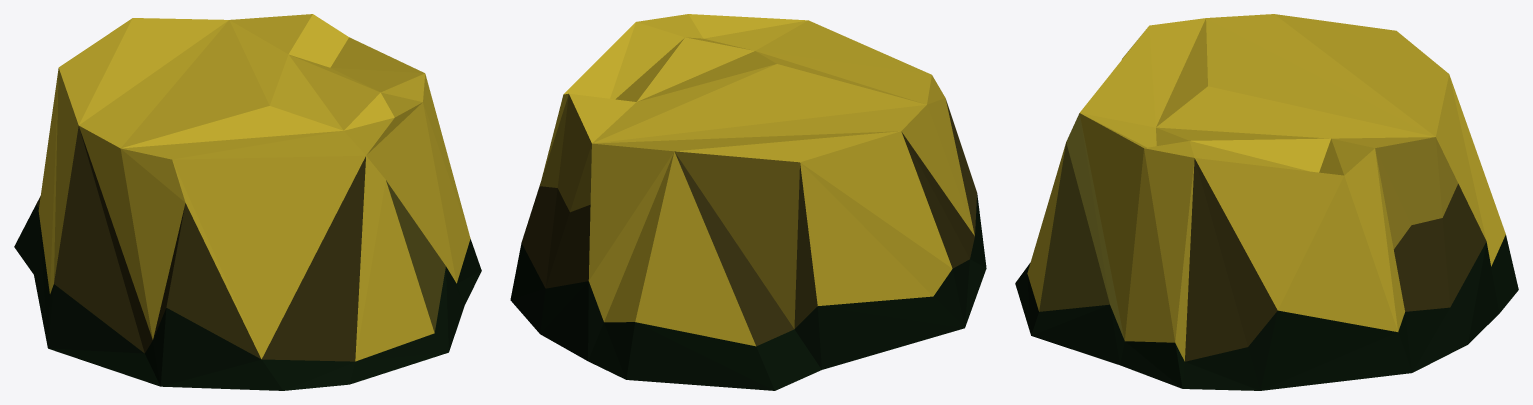
Rendered from tree_old_dead.FBX.
3 renders of one model, left to right at view 1: azimuth 30°, elevation 25°; view 2: azimuth 150°, elevation 25°; view 3: azimuth 270°, elevation 25°, orthographic.
Parts seen in each view (by area): view 1: tree_old_dead; view 2: tree_old_dead; view 3: tree_old_dead.
Boxes of the visible parts, bbox=[...] form: tree_old_dead: bbox=[14, 14, 481, 390]; tree_old_dead: bbox=[510, 14, 986, 390]; tree_old_dead: bbox=[1015, 14, 1518, 390].
Bounding box in the file's own units: 1.3 × 1.38 × 0.6343.
